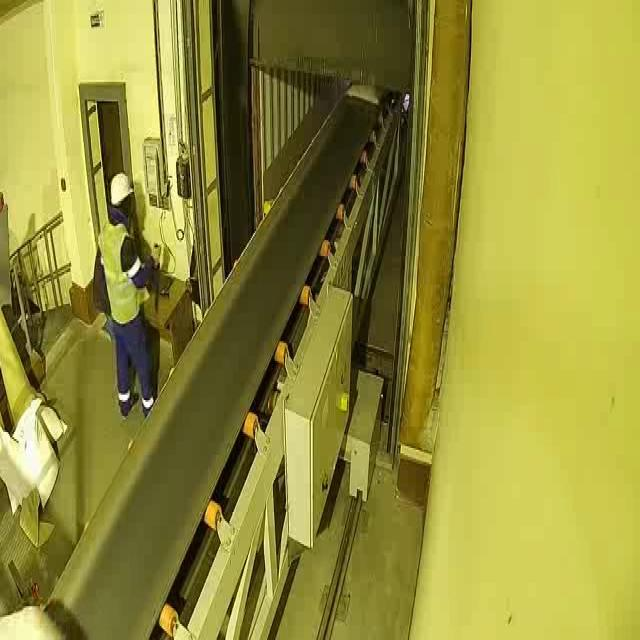bag: (347, 84, 381, 105)
